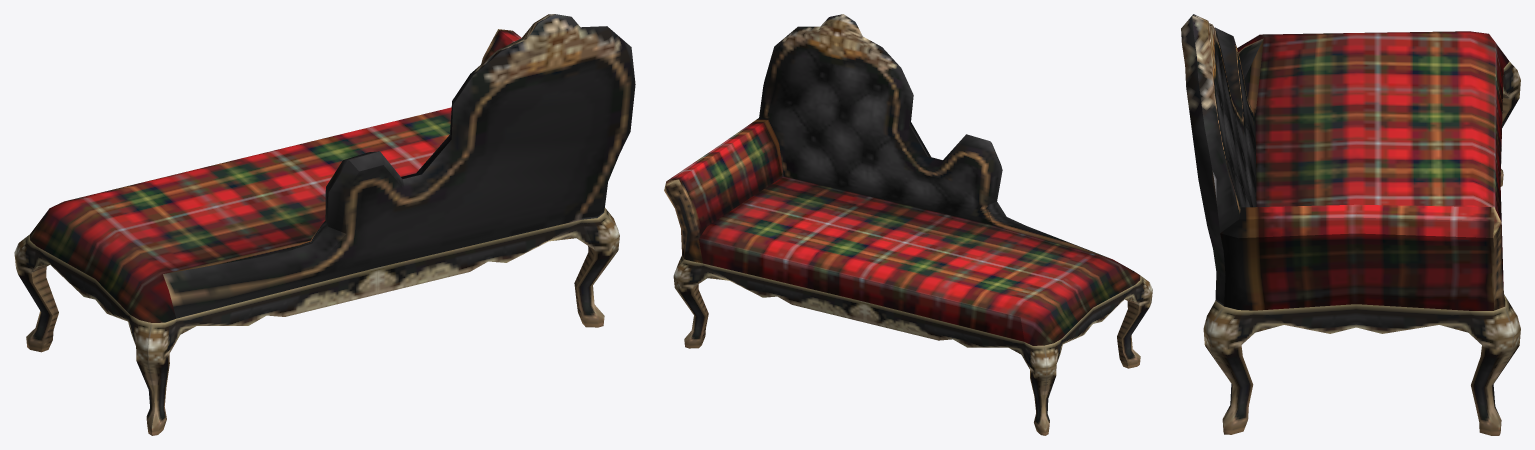
The model's file is furni_0200309.FBX.
The picture shows the model from 3 angles, left to right: view 1: azimuth 30°, elevation 25°; view 2: azimuth 150°, elevation 25°; view 3: azimuth 270°, elevation 25°; orthographic projection. The views are drawn at different scales.
Parts seen in each view (by area): view 1: furni_0200309; view 2: furni_0200309; view 3: furni_0200309.
Part boxes in pixels (left/top/right/bottom): furni_0200309: left=14, top=14, right=635, bottom=435; furni_0200309: left=664, top=14, right=1152, bottom=435; furni_0200309: left=1181, top=14, right=1520, bottom=435.
Size of the model in its own units: 159 by 103 by 82.54.
1 material, 1 textured.
